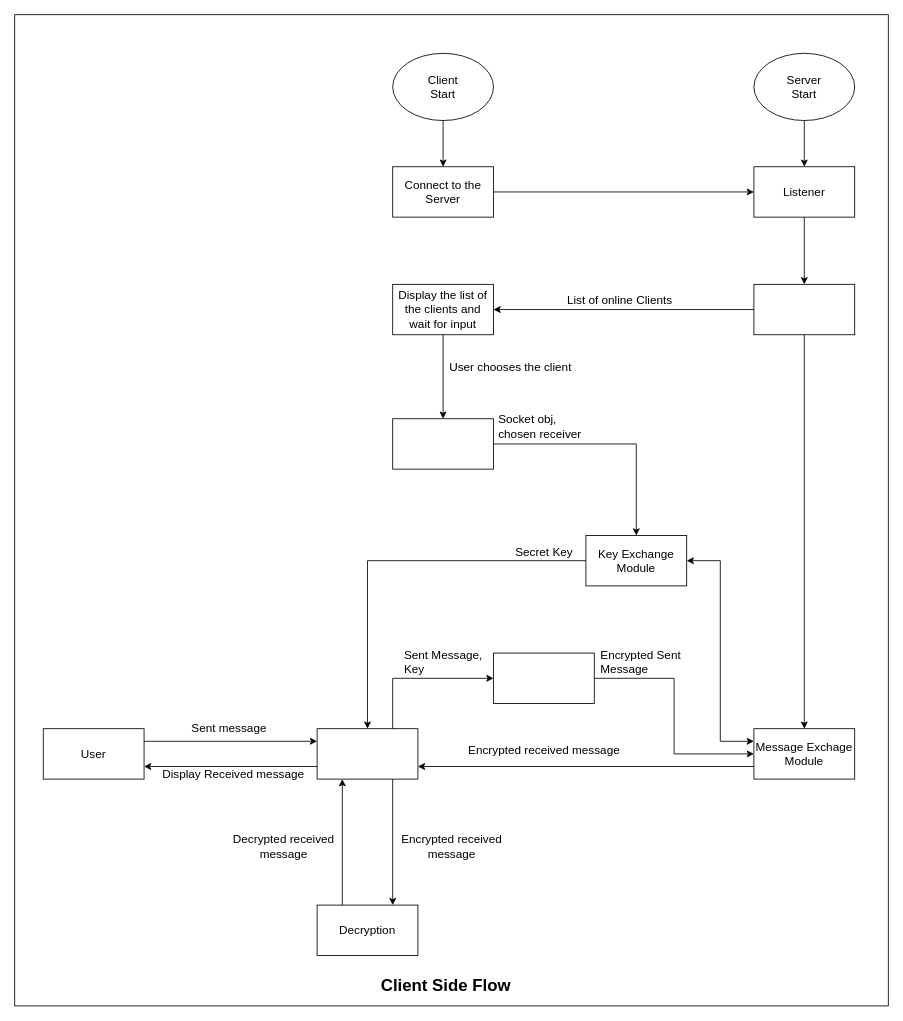
Some shapes in this 903 by 1021 pixel diagram are drawn without their labels. Each missing label, with the centre of its shape:
"Client Application" belongs at point 367,753.
"Create a Thread of the client" belongs at point 804,309.
"Encryption" belongs at point 543,678.
"Perform Key Exchange" belongs at point 443,443.
